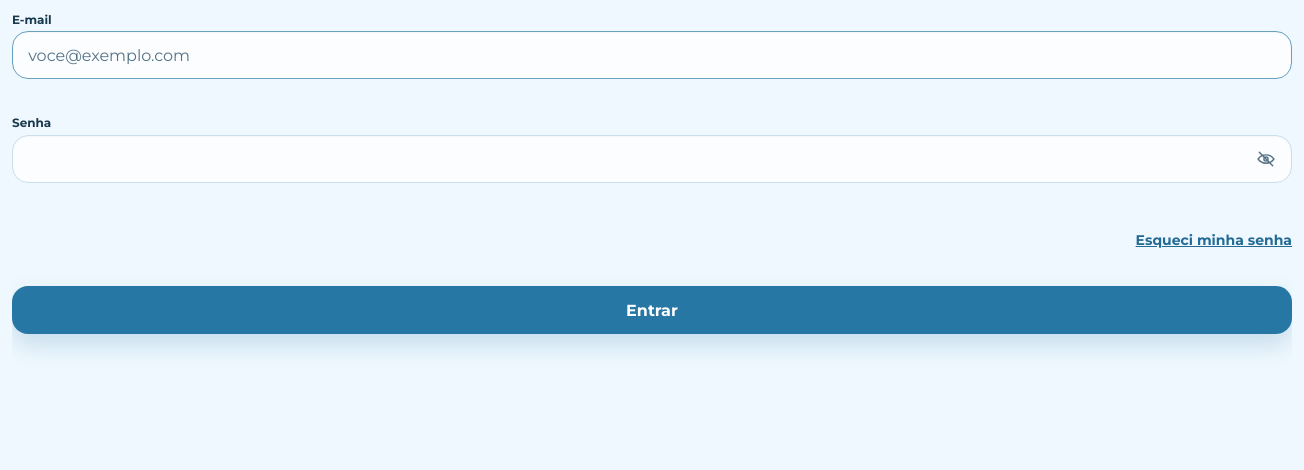
Test: informa rate limit e falha inesperada sem mostrar mensagens brutas
The width and height of the screenshot is (1304, 470).
Type " user@example.com " into the field labelled "E-mail". click: coordinates (652, 56)
box: x1=12 y1=32 x2=1292 y2=80
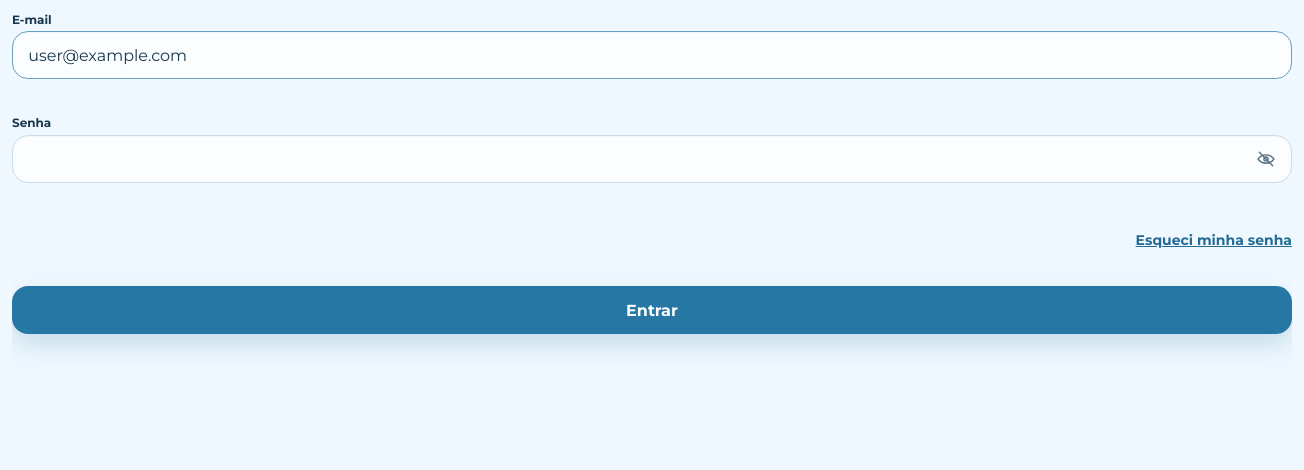
Type "senha-segura" into the password field labelled "Senha". click: coordinates (652, 159)
box: x1=12 y1=135 x2=1292 y2=183
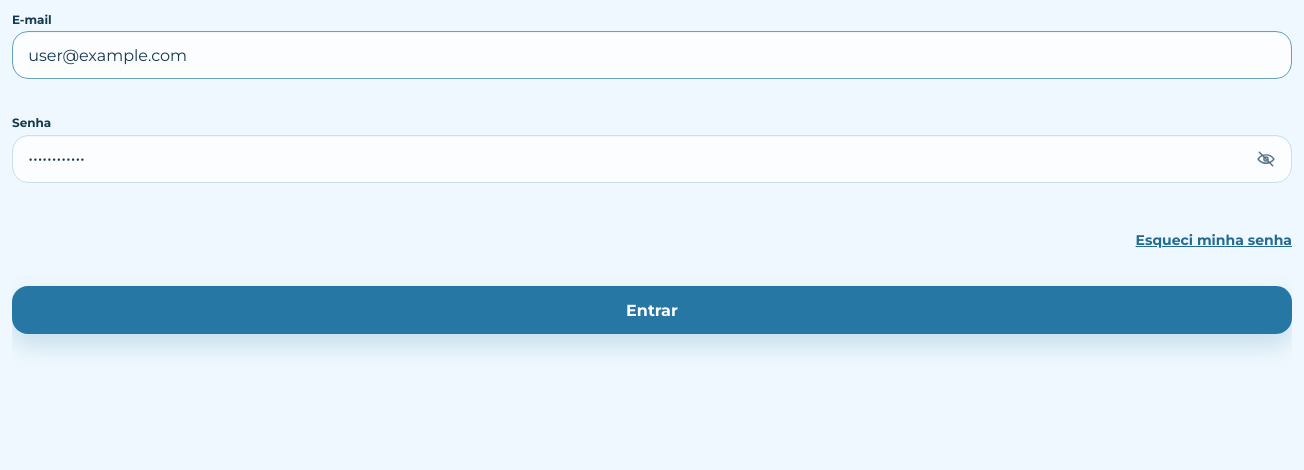
Click the button "Entrar". click: coordinates (652, 310)
box: x1=12 y1=286 x2=1292 y2=334
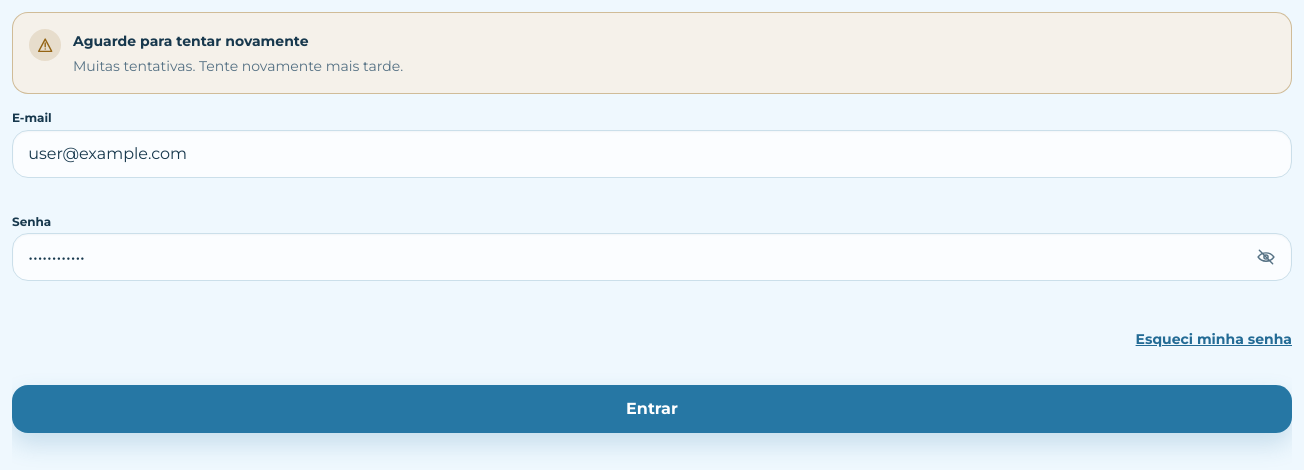
Expected: the text "Muitas tentativas. Tente novamente mais tarde." is shown, x1=73 y1=57 x2=403 y2=75
Click the button "Entrar". click: coordinates (652, 409)
box: x1=12 y1=385 x2=1292 y2=433
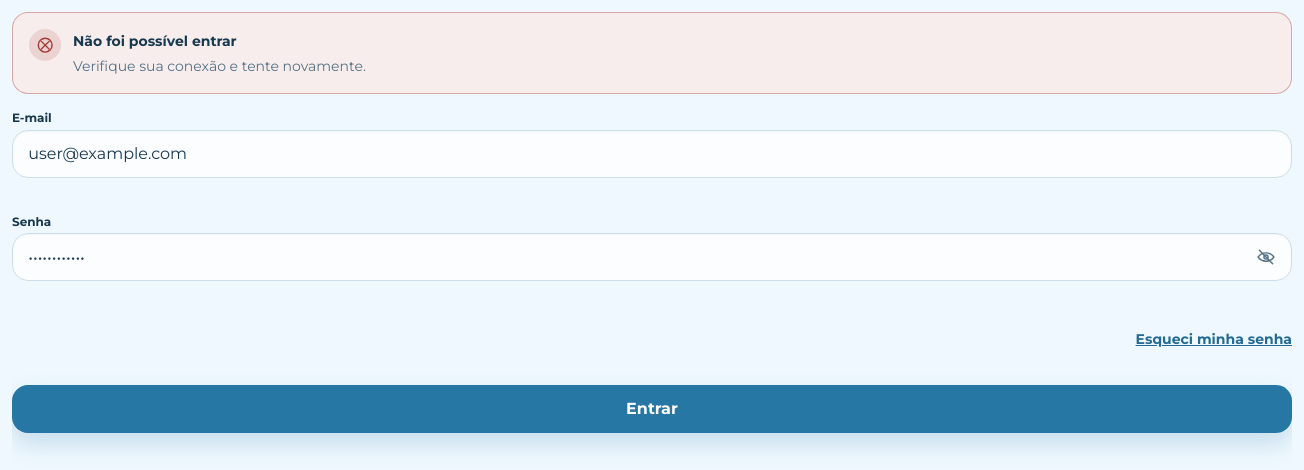
Expected: the text "Verifique sua conexão e tente novamente." is shown, x1=73 y1=57 x2=366 y2=75
